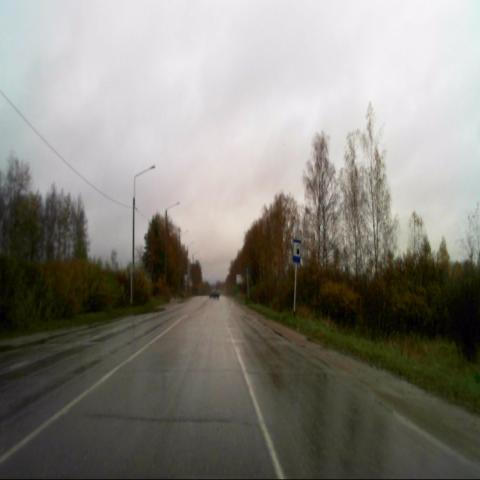7_3: (292, 237, 302, 264)
